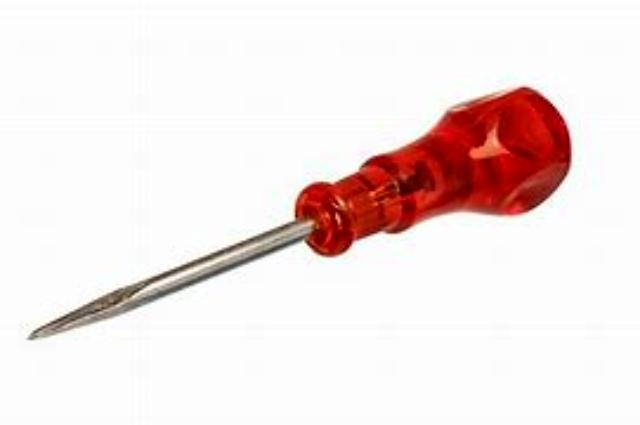ice pick: (34, 92, 578, 344)
